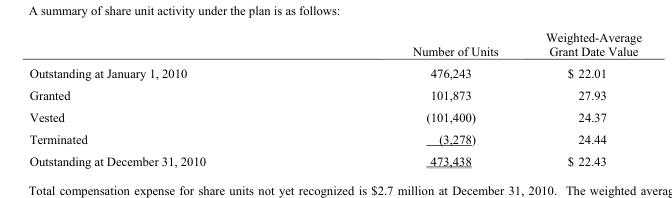table: (28, 29, 641, 167)
table column: (28, 29, 308, 167), (308, 29, 521, 167), (521, 29, 641, 167)
table column header: (28, 29, 641, 61)
table row: (28, 29, 641, 61), (28, 61, 641, 84), (28, 105, 641, 127), (28, 127, 641, 149), (28, 84, 641, 105), (28, 149, 641, 167)
